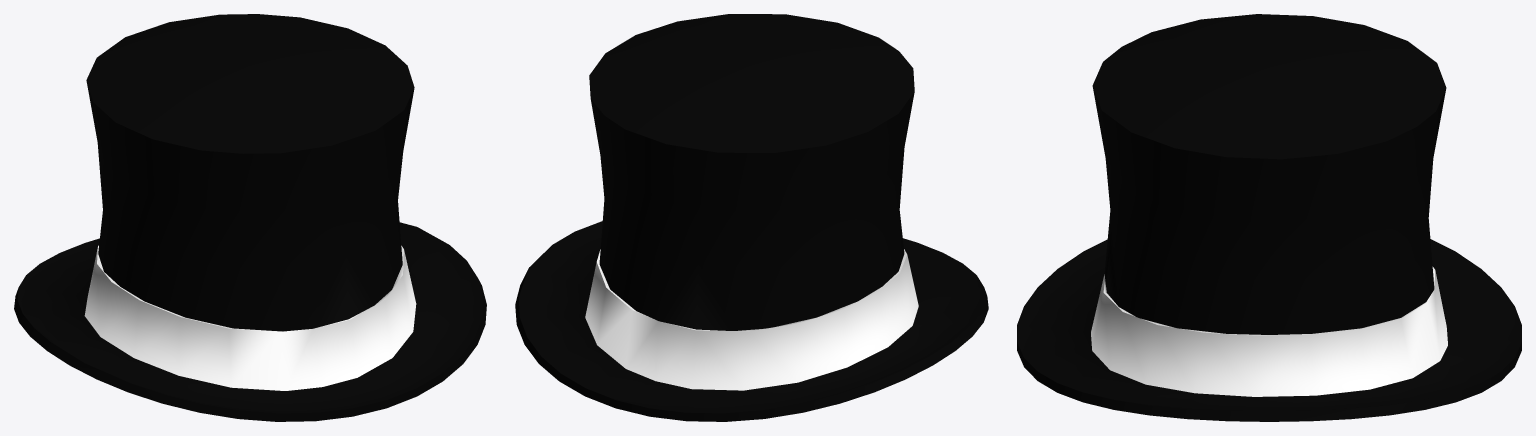
The model's file is hat.dae.
3 renders of one model, left to right at view 1: azimuth 30°, elevation 25°; view 2: azimuth 150°, elevation 25°; view 3: azimuth 270°, elevation 25°, orthographic. The views are drawn at different scales.
Parts seen in each view (by area): view 1: hat; view 2: hat; view 3: hat.
Boxes of the visible parts, <box> form: hat: <box>14,14,486,421</box>; hat: <box>515,14,988,421</box>; hat: <box>1017,14,1521,421</box>.
Size of the model in its own units: 0.5244 by 0.5325 by 0.3331.
Materials: 1 (1 with a texture image).
